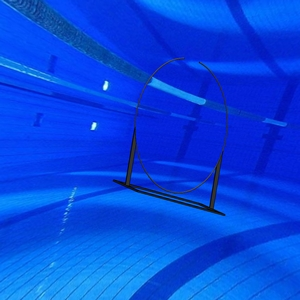circle: (112, 55, 229, 217)
